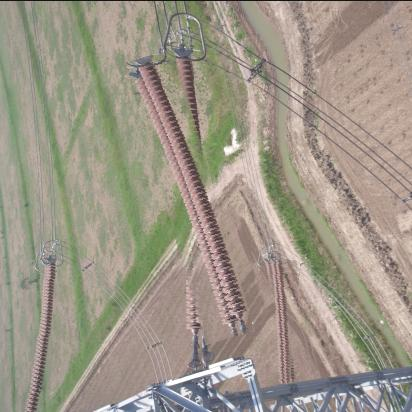insulator: (146, 50, 236, 345), (24, 260, 58, 412), (263, 259, 299, 386)
